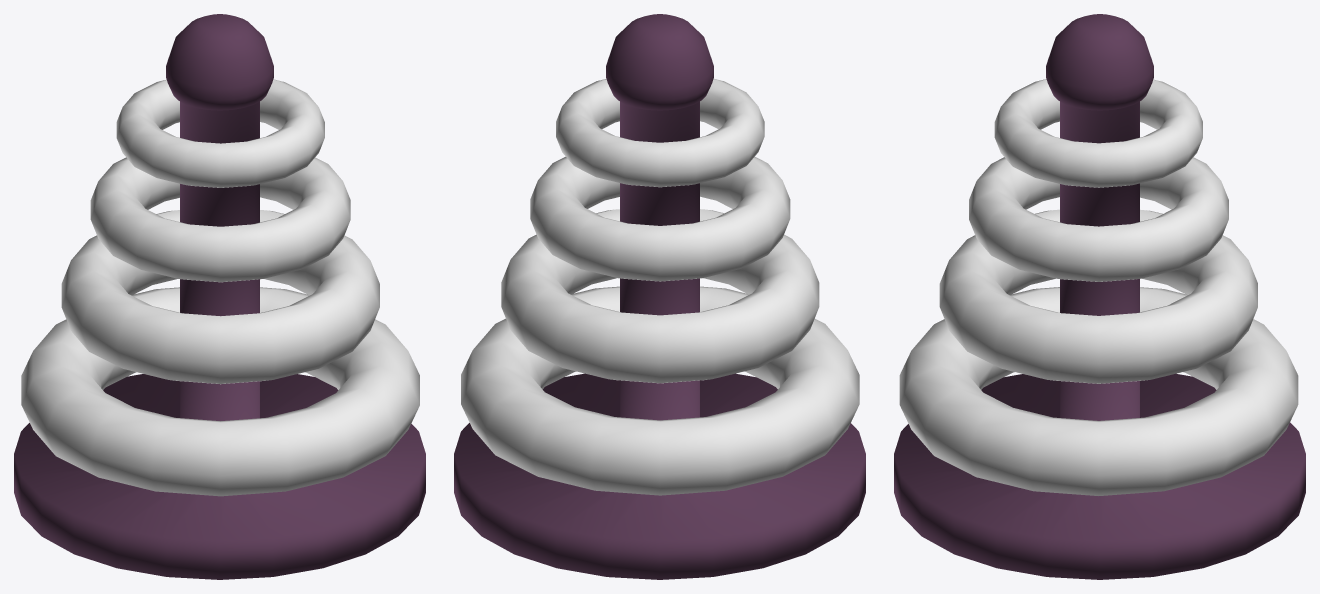
File: tesla_coil.fbx
The picture shows the model from 3 angles, left to right: view 1: azimuth 30°, elevation 25°; view 2: azimuth 150°, elevation 25°; view 3: azimuth 270°, elevation 25°; orthographic projection.
Visible parts, largest first — view 1: Circle.008; view 2: Circle.008; view 3: Circle.008.
Boxes of the visible parts, <box> form: Circle.008: <box>14,14,425,579</box>; Circle.008: <box>454,14,865,579</box>; Circle.008: <box>894,14,1305,579</box>.
Bounding box in the file's own units: 115 × 145 × 115.
